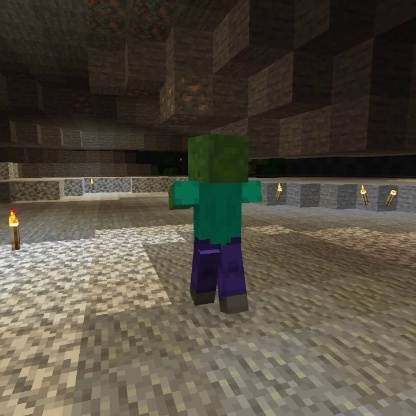zombie: (165, 131, 268, 318)
